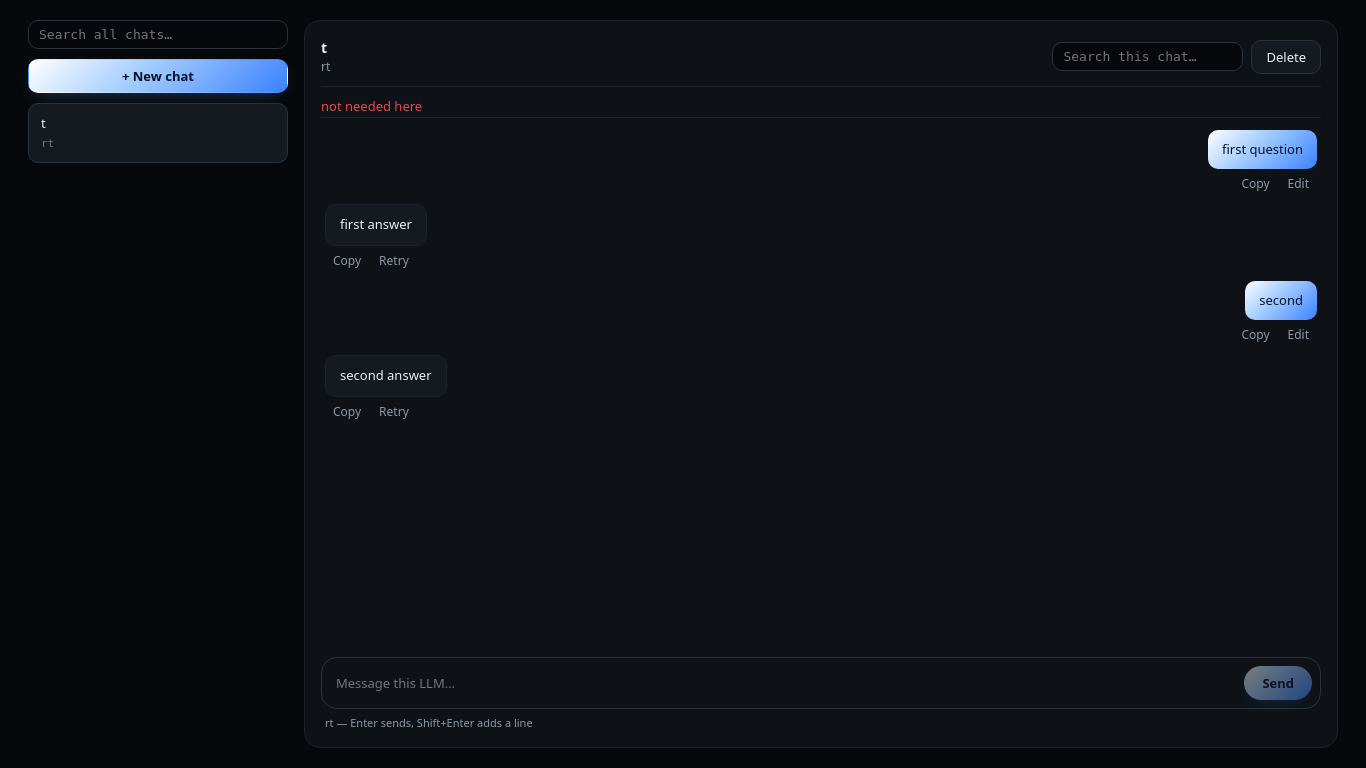
Scenario: message actions › Cancel leaves the message alone and sends nothing
Expected: the text "first answer" is shown, left=325, top=204, right=427, bottom=246
What coordinates should you click on to do the following:
click the button with aria-label "Edit message"
I would click on:
 (1298, 184)
Its box is left=1280, top=173, right=1317, bottom=194.
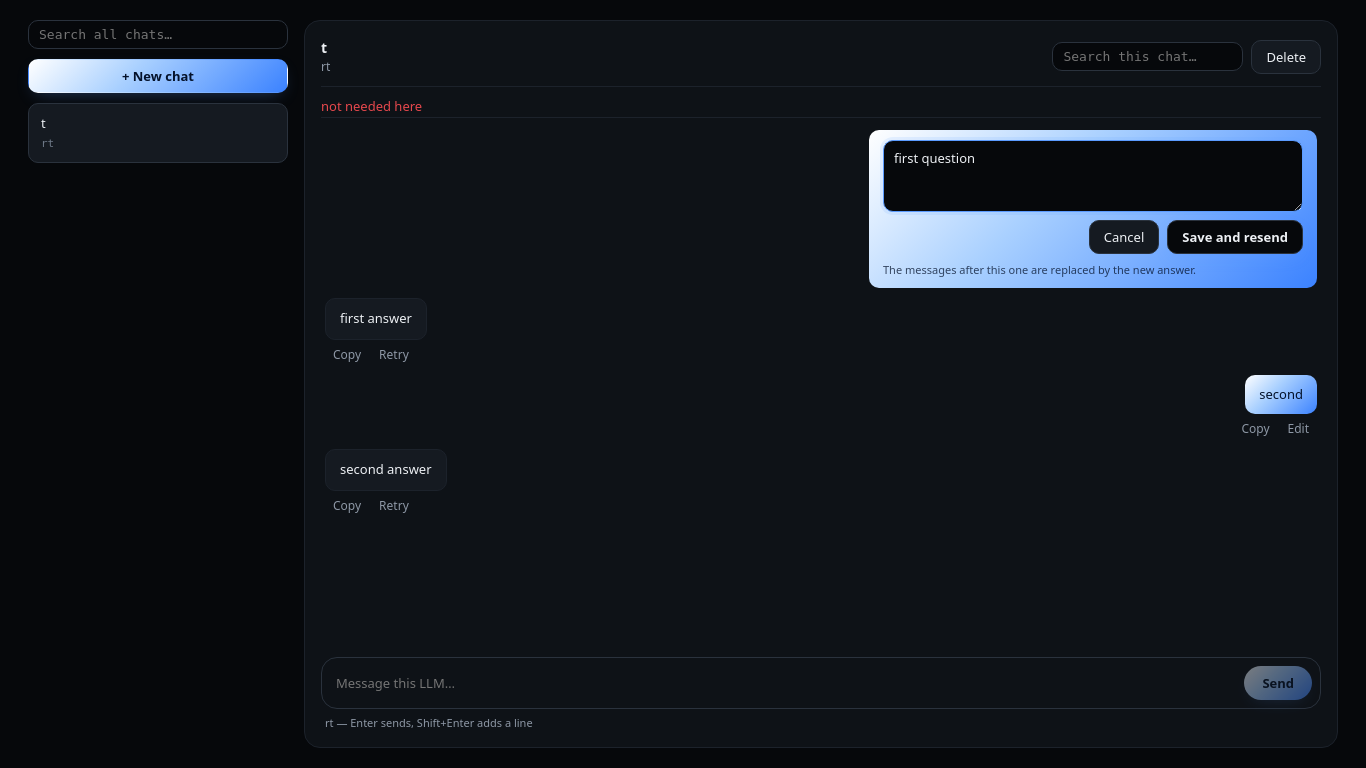
What coordinates should you click on to do the following:
click the button "Cancel"
I would click on:
 (1124, 236)
Its box is left=1089, top=220, right=1159, bottom=254.
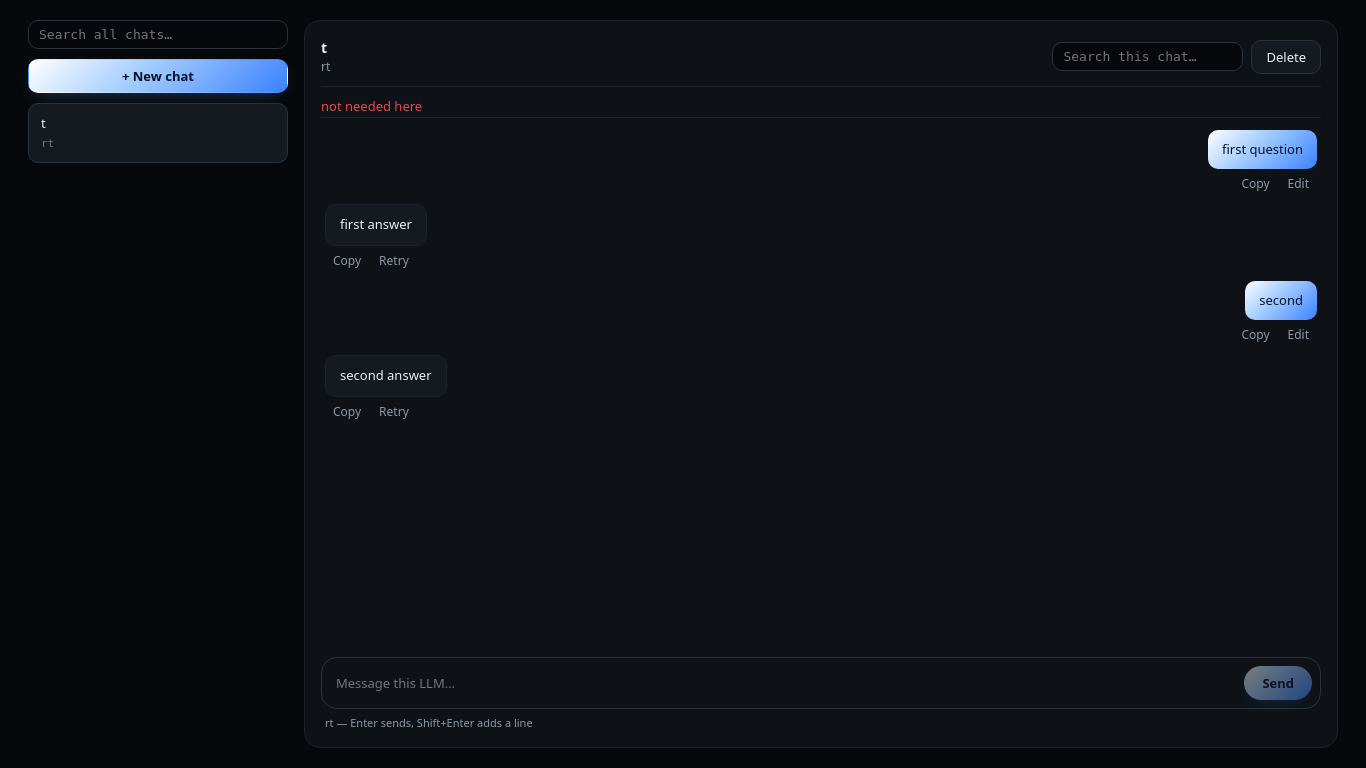
Now the text "first question" is shown, box left=1208, top=130, right=1317, bottom=169
